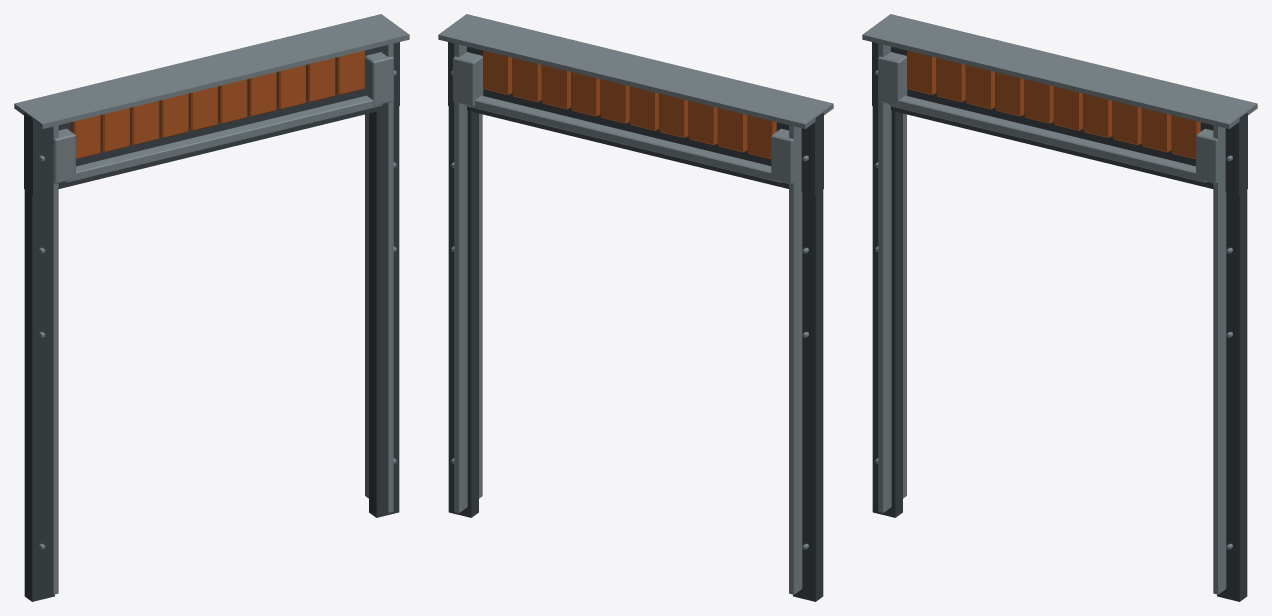
The model's file is e2-pack-divider-crown.glb.
3 renders of one model, left to right at view 1: azimuth 30°, elevation 25°; view 2: azimuth 150°, elevation 25°; view 3: azimuth 330°, elevation 25°, orthographic.
Visible parts, largest first — view 1: E2 | 3 m crown and seam kit; view 2: E2 | 3 m crown and seam kit; view 3: E2 | 3 m crown and seam kit.
Boxes of the visible parts, x1,y1,x2,y2 form: E2 | 3 m crown and seam kit: (14, 14, 409, 601); E2 | 3 m crown and seam kit: (438, 14, 833, 601); E2 | 3 m crown and seam kit: (862, 14, 1257, 601).
Size of the model in its own units: 2.38 by 3 by 0.318.
